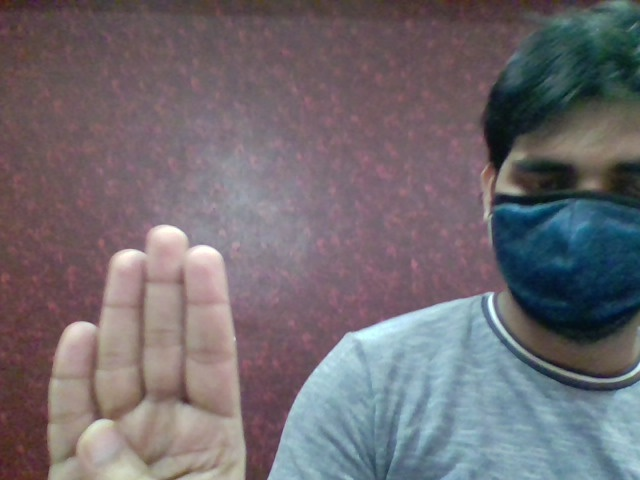b: (36, 217, 260, 479)
